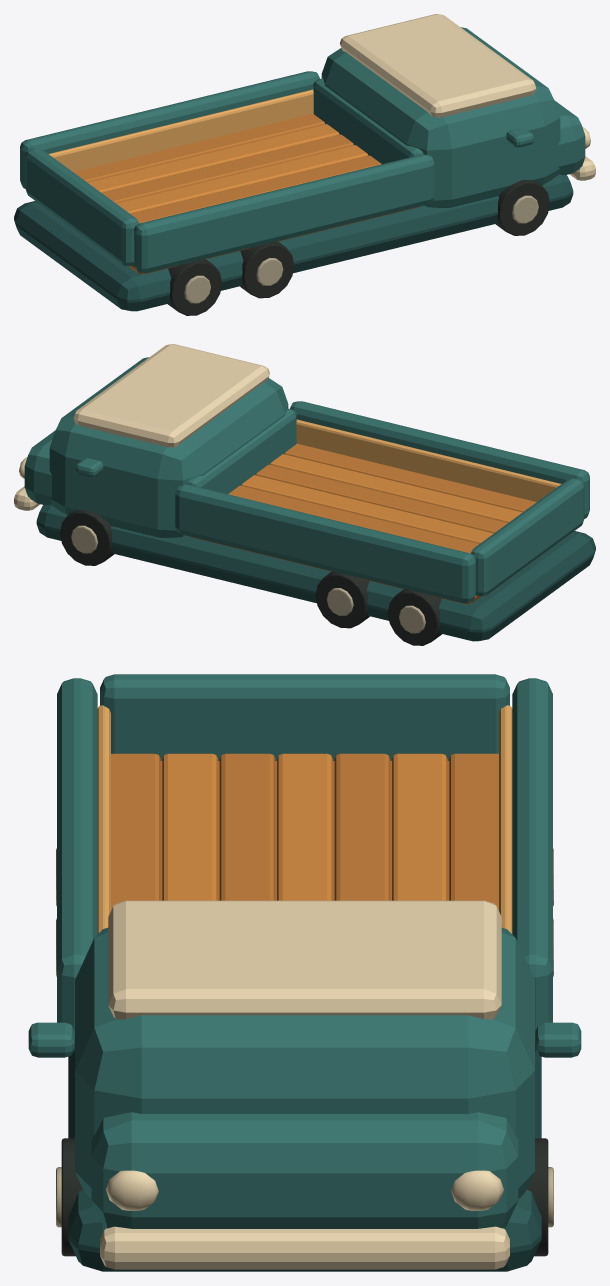
The model's file is Market_Truck_Single.fbx.
The picture shows the model from 3 angles, top to bottom: view 1: azimuth 30°, elevation 25°; view 2: azimuth 150°, elevation 25°; view 3: azimuth 270°, elevation 25°; orthographic projection. The views are drawn at different scales.
Parts seen in each view (by area): view 1: Body, Wheels; view 2: Body, Wheels; view 3: Body, Wheels.
Boxes of the visible parts, <box> form: Body: <box>14,14,595,311</box>; Wheels: <box>168,180,549,315</box>; Body: <box>14,344,595,641</box>; Wheels: <box>60,510,441,645</box>; Body: <box>28,674,581,1271</box>; Wheels: <box>56,848,553,1256</box>.
Bounding box in the file's own units: 3.33 × 0.9275 × 1.66.
